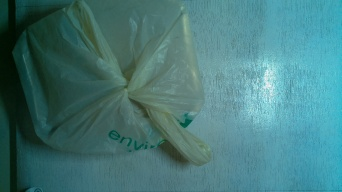f: (18, 1, 206, 155)
